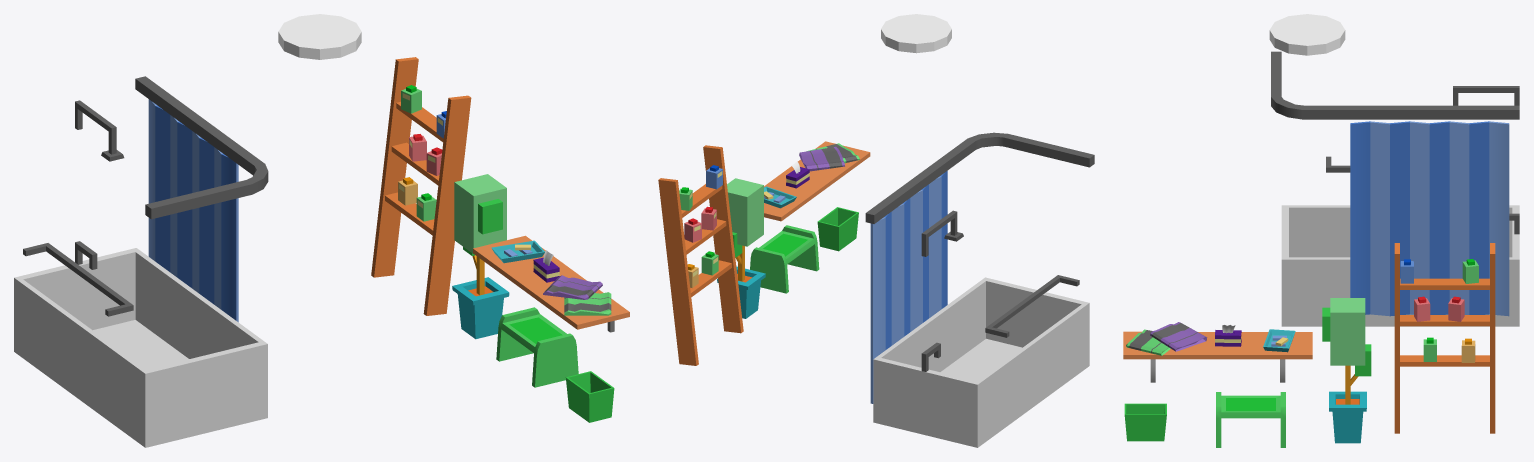
Rendered from BanosObjetos05.fbx.
3 renders of one model, left to right at view 1: azimuth 30°, elevation 25°; view 2: azimuth 150°, elevation 25°; view 3: azimuth 270°, elevation 25°, orthographic. The views are drawn at different scales.
Visible parts, largest first — view 1: BanosObjetos05; view 2: BanosObjetos05; view 3: BanosObjetos05.
Part boxes in pixels (x1,y1,x2,y2): BanosObjetos05: [14, 14, 629, 447]; BanosObjetos05: [658, 14, 1094, 447]; BanosObjetos05: [1123, 14, 1519, 447].
Bounding box in the file's own units: 408 × 341 × 374.
